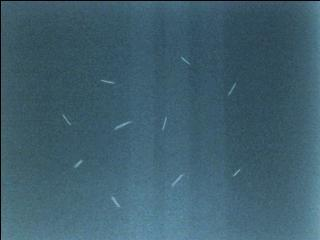scratch: (168, 169, 187, 188), (62, 112, 80, 130), (108, 192, 124, 210), (155, 115, 170, 133), (113, 120, 133, 131), (179, 55, 194, 69), (227, 80, 238, 98), (97, 78, 117, 87), (72, 158, 84, 170), (229, 166, 241, 177)
